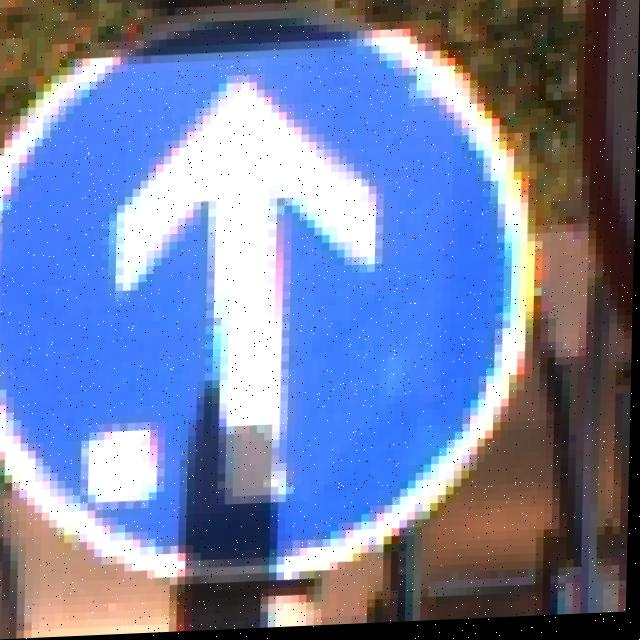compulsory_ahead: (0, 26, 534, 595)
